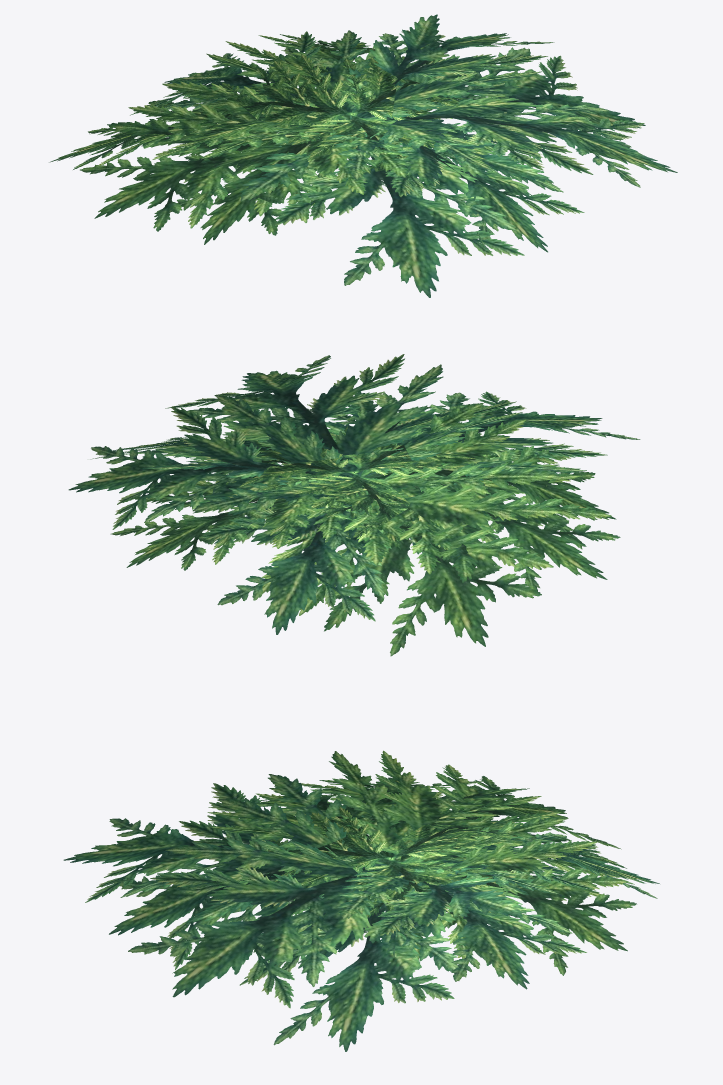
Rendered from shrub_sprawl.glb.
3 views of the same model, one above another, from view 1: azimuth 30°, elevation 25°; view 2: azimuth 150°, elevation 25°; view 3: azimuth 270°, elevation 25° (orthographic).
Visible parts, largest first — view 1: shrub_sprawl; view 2: shrub_sprawl; view 3: shrub_sprawl.
Boxes of the visible parts, x1=… form: shrub_sprawl: x1=49, y1=14, x2=677, y2=297; shrub_sprawl: x1=68, y1=354, x2=640, y2=656; shrub_sprawl: x1=63, y1=750, x2=659, y2=1051.
Bounding box in the file's own units: 2.34 × 0.4321 × 2.3.
Materials: 1 (1 with a texture image).
